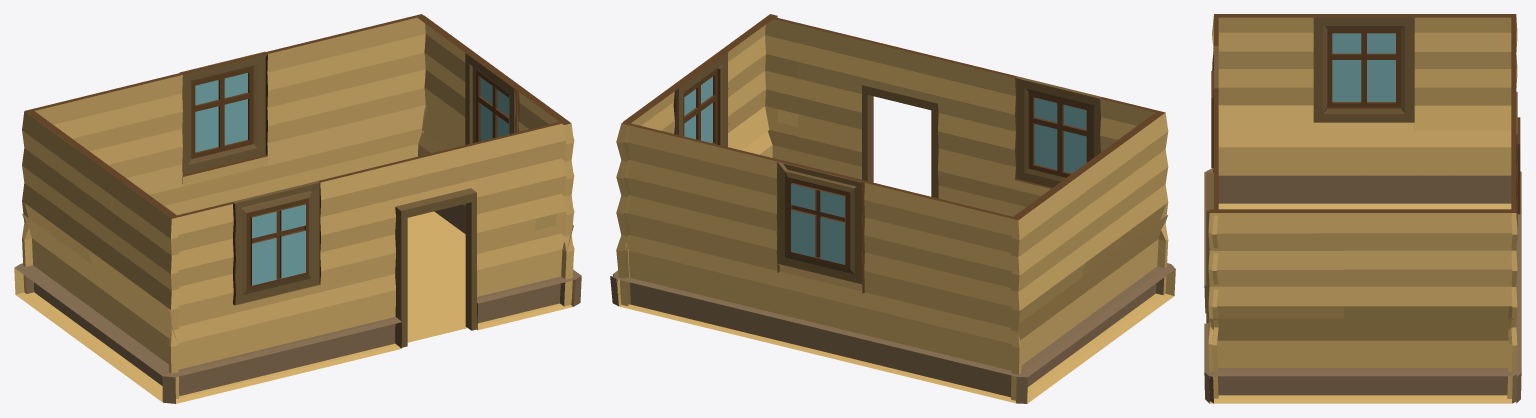
Rendered from РыбацкаяХижинаВнутри.fbx.
The picture shows the model from 3 angles, left to right: view 1: azimuth 30°, elevation 25°; view 2: azimuth 150°, elevation 25°; view 3: azimuth 270°, elevation 25°; orthographic projection. The views are drawn at different scales.
Parts seen in each view (by area): view 1: Рыбацкая хижина внутри; view 2: Рыбацкая хижина внутри; view 3: Рыбацкая хижина внутри.
Boxes of the visible parts, bbox=[...] form: Рыбацкая хижина внутри: bbox=[14, 14, 581, 403]; Рыбацкая хижина внутри: bbox=[610, 14, 1175, 403]; Рыбацкая хижина внутри: bbox=[1204, 14, 1521, 403].
Bounding box in the file's own units: 7595 × 3165 × 4867.
